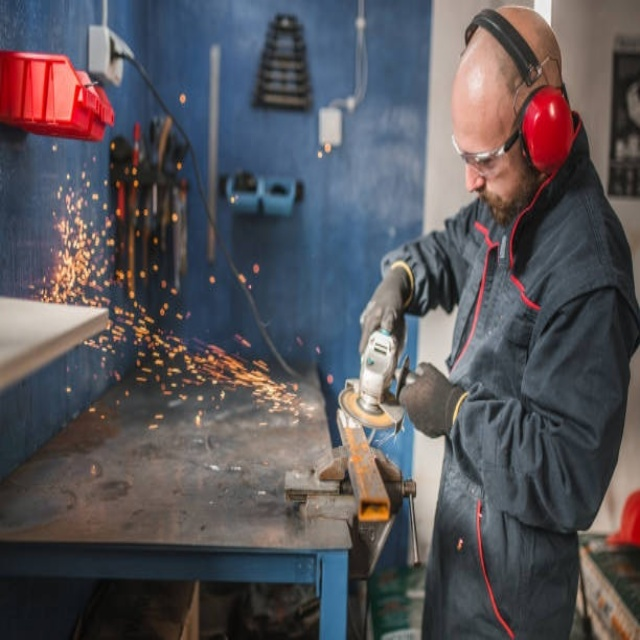Gafas: (450, 124, 521, 172)
Guantes: (359, 261, 414, 357), (399, 362, 466, 439)
Sin_mascara: (465, 182, 509, 229)
